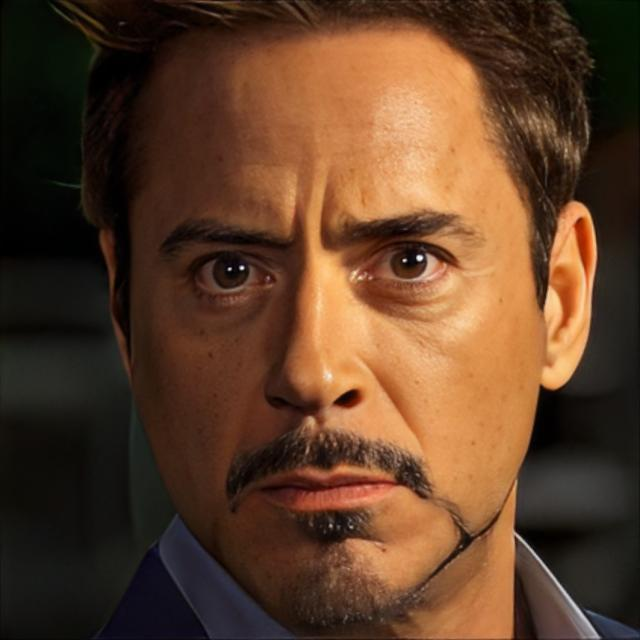anger: (121, 25, 542, 627)
